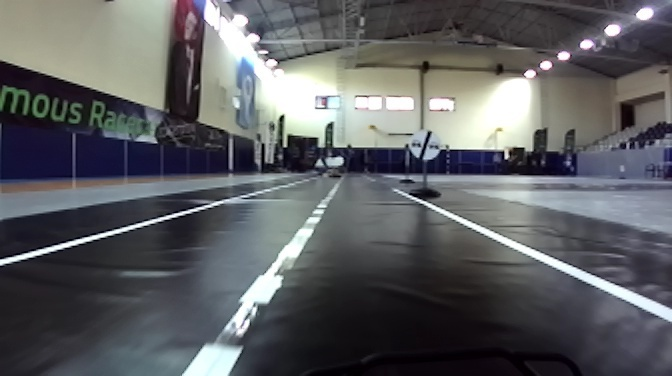sollama_serbest: (407, 128, 439, 160)
